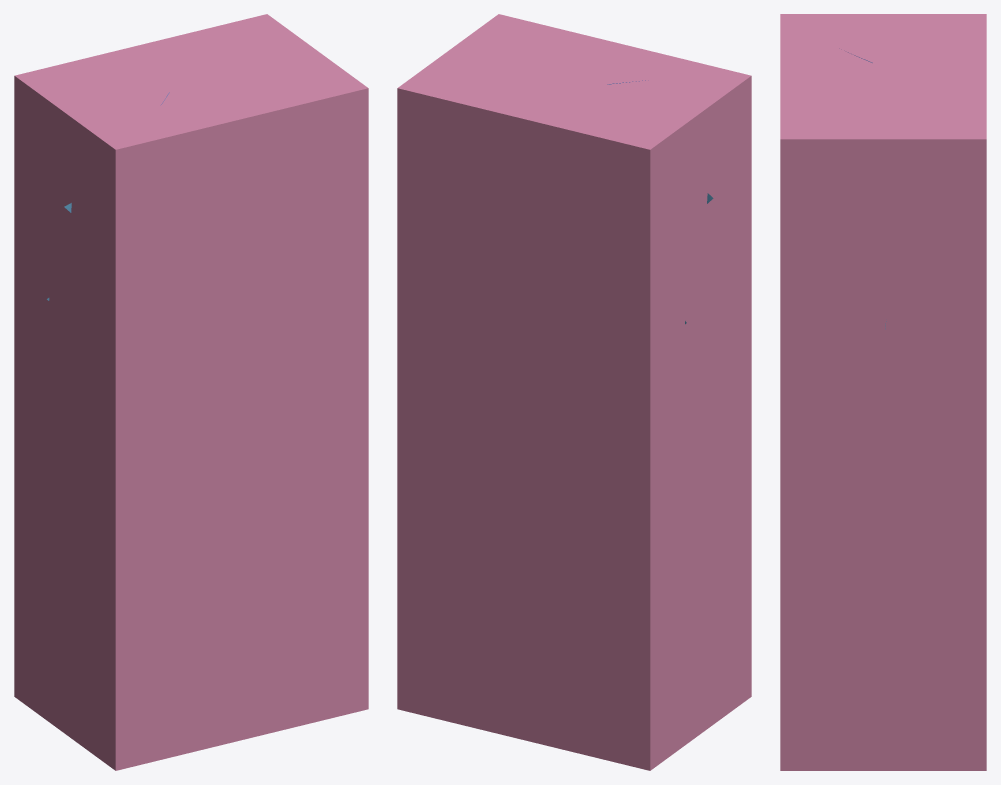
The model's file is tree_aspen_small_c.dae.
3 views of the same model, side by side, from view 1: azimuth 30°, elevation 25°; view 2: azimuth 150°, elevation 25°; view 3: azimuth 270°, elevation 25° (orthographic).
Parts seen in each view (by area): view 1: Untitled; view 2: Untitled; view 3: Untitled.
Boxes of the visible parts, bbox=[...] form: Untitled: bbox=[14, 14, 368, 770]; Untitled: bbox=[397, 14, 751, 770]; Untitled: bbox=[780, 14, 986, 770].
Bounding box in the file's own units: 3.44 × 2.25 × 7.87.
